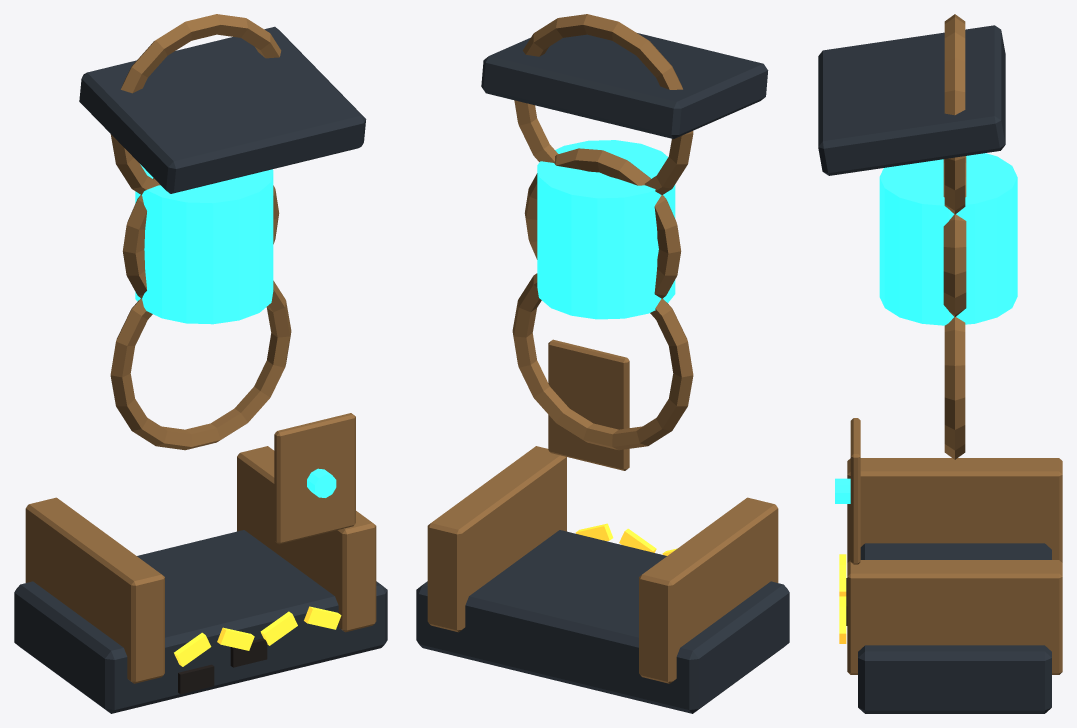
File: runtime.glb
The picture shows the model from 3 angles, left to right: view 1: azimuth 30°, elevation 25°; view 2: azimuth 150°, elevation 25°; view 3: azimuth 270°, elevation 25°; orthographic projection.
Parts seen in each view (by area): view 1: kinetic-tide-warning-beacon-v06_steel_nocol, kinetic-tide-warning-beacon-v06_bronze_nocol, kinetic-tide-warning-beacon-v06_cyansignal_nocol, kinetic-tide-warning-beacon-v06_warningorange_nocol, kinetic-tide-warning-beacon-v06_weardark_nocol; view 2: kinetic-tide-warning-beacon-v06_bronze_nocol, kinetic-tide-warning-beacon-v06_steel_nocol, kinetic-tide-warning-beacon-v06_cyansignal_nocol, kinetic-tide-warning-beacon-v06_warningorange_nocol; view 3: kinetic-tide-warning-beacon-v06_bronze_nocol, kinetic-tide-warning-beacon-v06_steel_nocol, kinetic-tide-warning-beacon-v06_cyansignal_nocol, kinetic-tide-warning-beacon-v06_warningorange_nocol.
Part boxes in pixels (box(x1,y1,x2,y2)): kinetic-tide-warning-beacon-v06_steel_nocol: box(14, 26, 387, 713); kinetic-tide-warning-beacon-v06_bronze_nocol: box(25, 14, 376, 683); kinetic-tide-warning-beacon-v06_cyansignal_nocol: box(135, 164, 336, 497); kinetic-tide-warning-beacon-v06_warningorange_nocol: box(174, 606, 341, 666); kinetic-tide-warning-beacon-v06_weardark_nocol: box(178, 638, 267, 694); kinetic-tide-warning-beacon-v06_bronze_nocol: box(427, 14, 778, 683); kinetic-tide-warning-beacon-v06_steel_nocol: box(416, 33, 789, 713); kinetic-tide-warning-beacon-v06_cyansignal_nocol: box(537, 140, 675, 319); kinetic-tide-warning-beacon-v06_warningorange_nocol: box(575, 523, 677, 555); kinetic-tide-warning-beacon-v06_bronze_nocol: box(847, 14, 1062, 674); kinetic-tide-warning-beacon-v06_steel_nocol: box(818, 25, 1051, 713); kinetic-tide-warning-beacon-v06_cyansignal_nocol: box(835, 153, 1017, 503); kinetic-tide-warning-beacon-v06_warningorange_nocol: box(839, 554, 846, 643).
Size of the model in its own units: 2.27 by 4.82 by 1.71.
